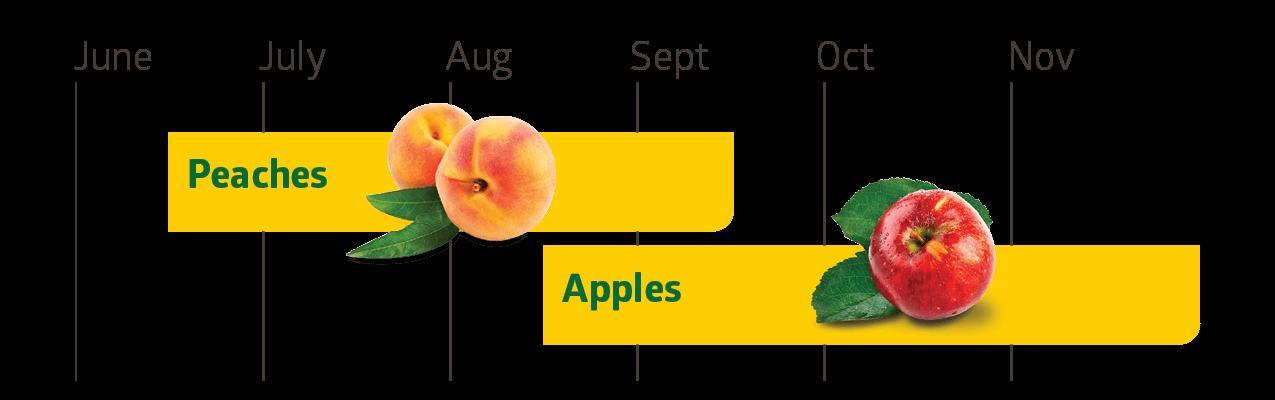apple: (871, 186, 998, 320)
